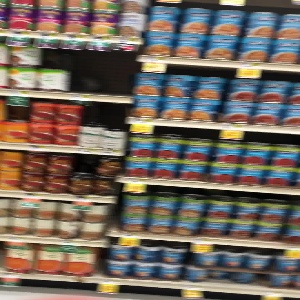void: (70, 40, 134, 100)
